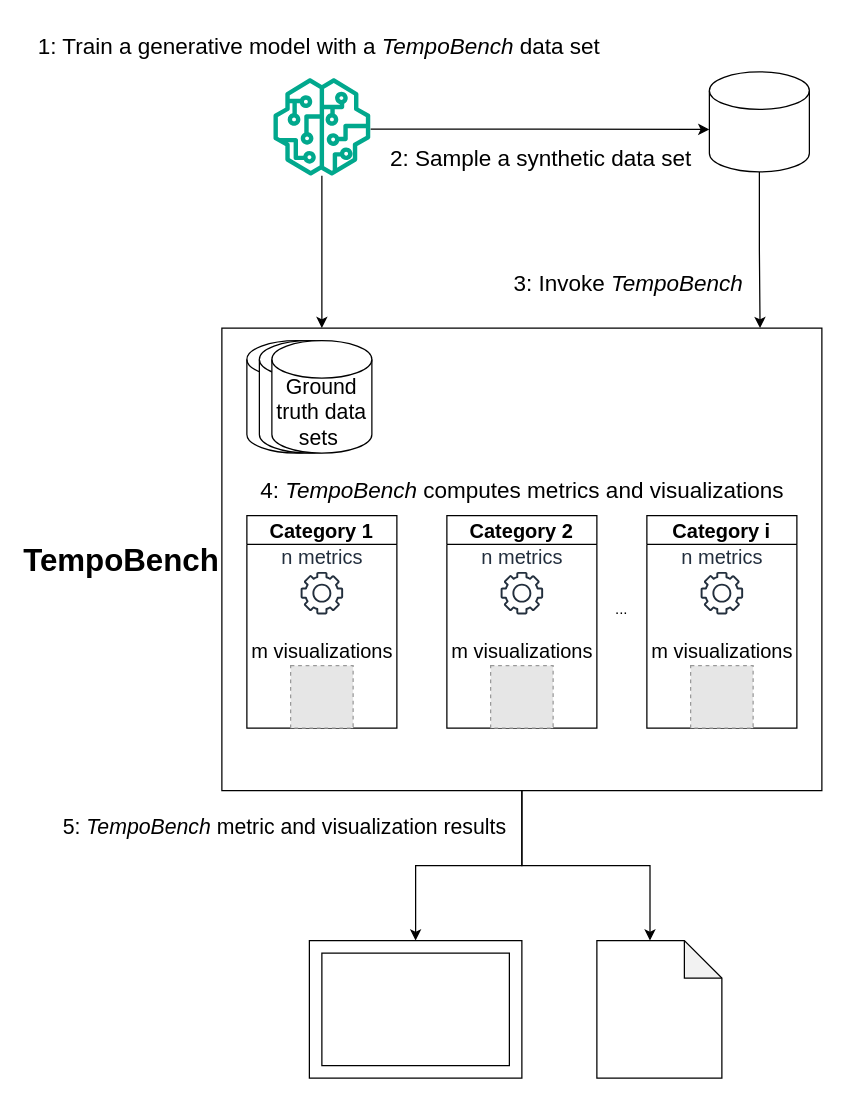
The diagram is 844 pixels wide and 1100 high, and some of its shapes have lost their labels. Grey dashed boxes stand in for pictures. The box of each missing label's shape, as (x1, y1, x2, y2) in pixels:
JSON metric results: (596, 939, 722, 1078)
Synthetic data: (708, 71, 809, 172)
Visualizations: (308, 939, 522, 1078)
